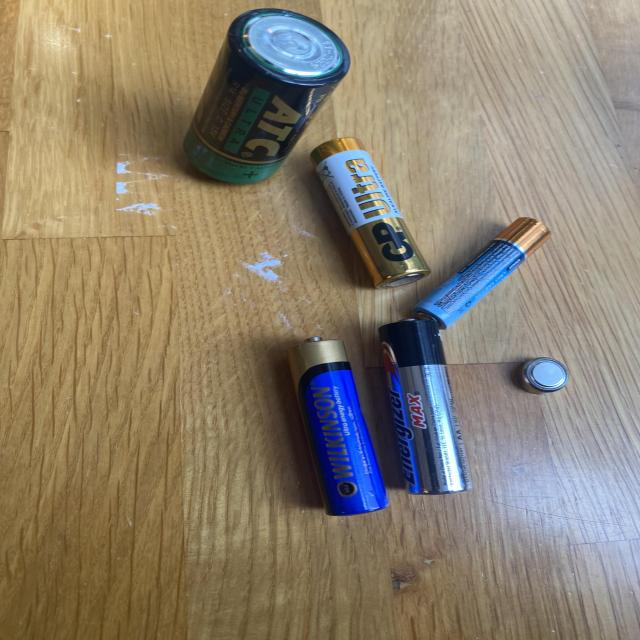AA: (283, 334, 392, 519), (309, 134, 434, 291), (377, 316, 475, 497)
AAA: (411, 214, 555, 333)
COIN: (517, 356, 571, 396)
